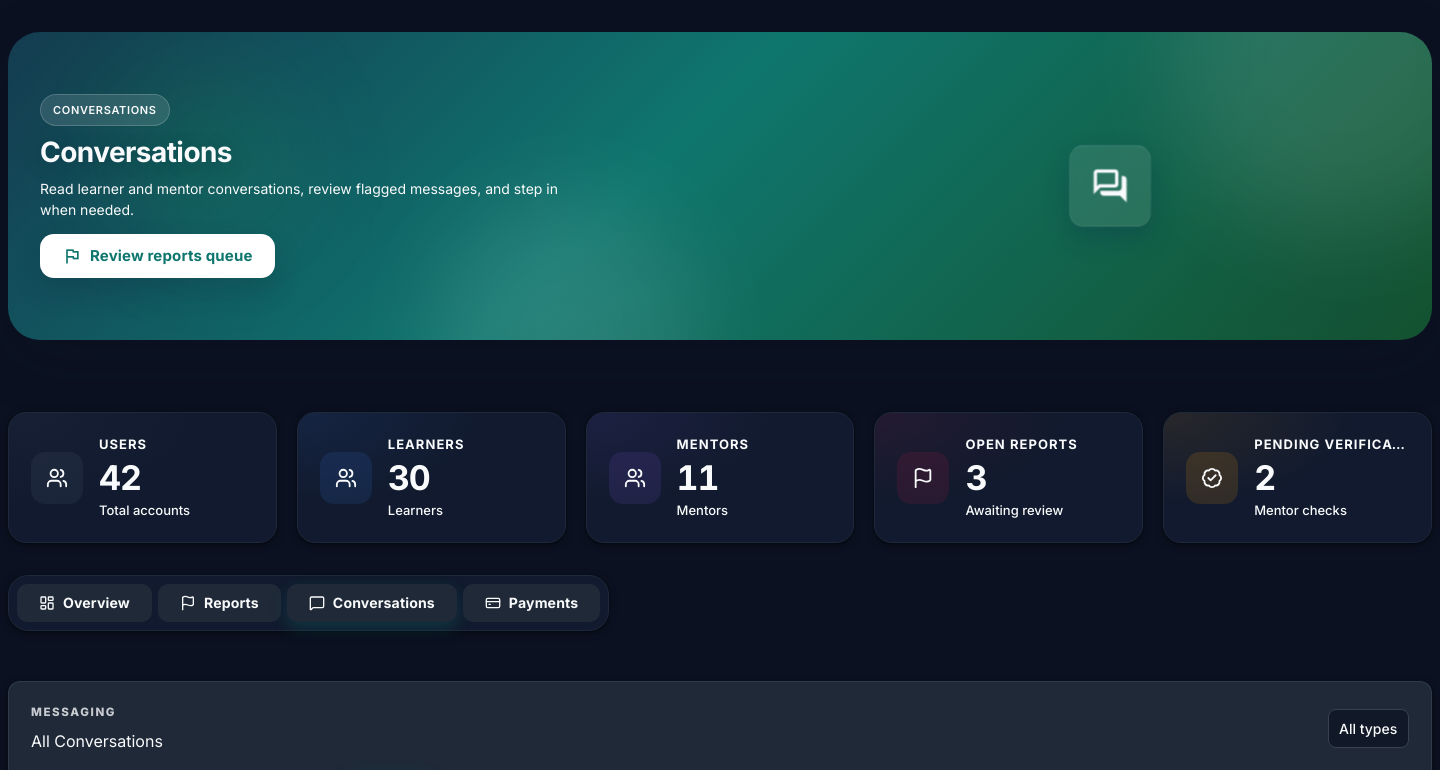
Test: AdminOperationsPage › renders the Overview tab when reports arrive in a Spring Page envelope
The width and height of the screenshot is (1440, 770).
Click the tab "Overview": (84, 603) [17,584,152,622]
(page scrolled)
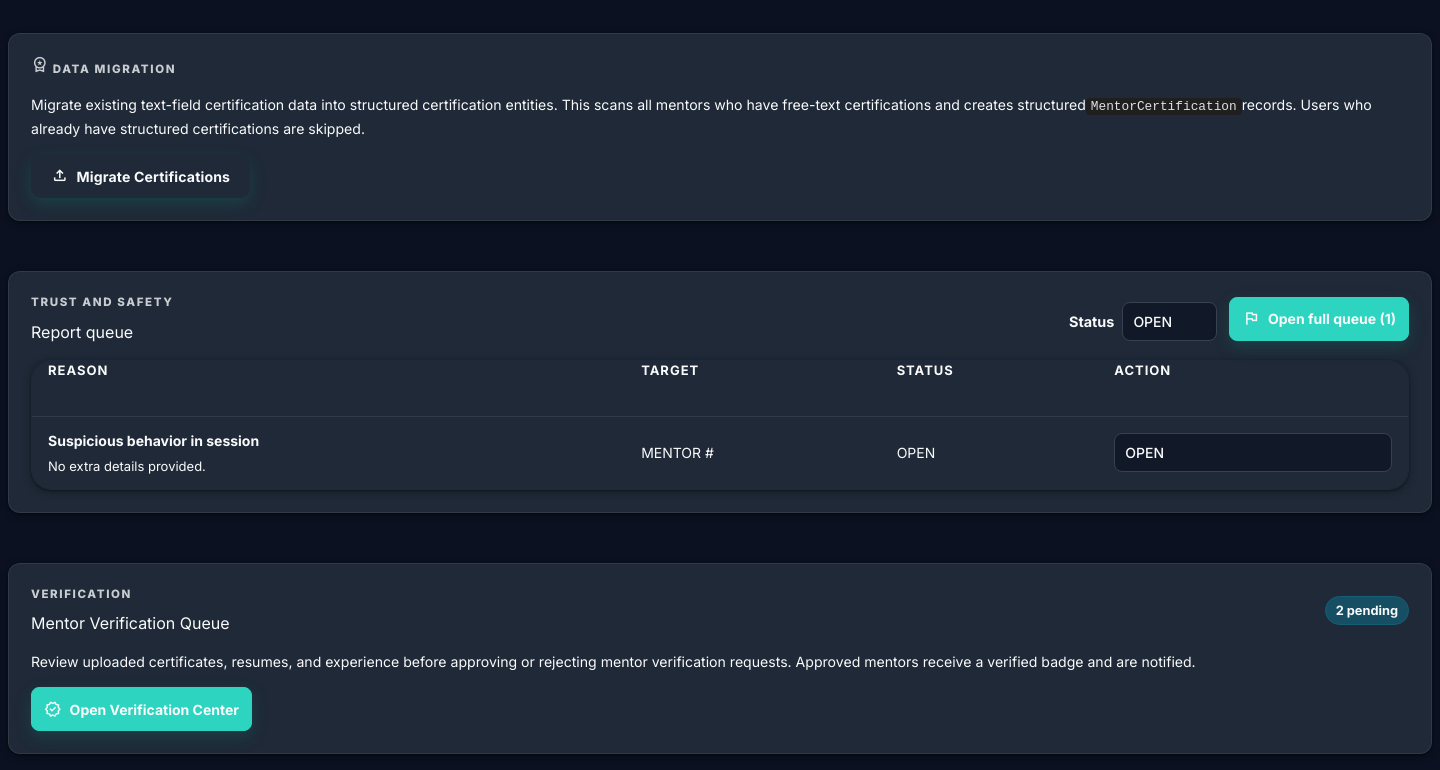
Now the text "Suspicious behavior in session" is shown, box [48,432,259,448]
